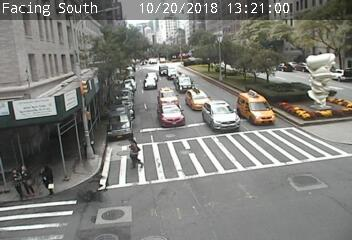car: (202, 100, 239, 131), (238, 93, 275, 124), (159, 104, 183, 126), (185, 90, 210, 110), (158, 89, 178, 108), (176, 76, 194, 93), (174, 73, 186, 85), (167, 68, 179, 79), (144, 78, 156, 89), (159, 65, 170, 76), (146, 72, 157, 81)
